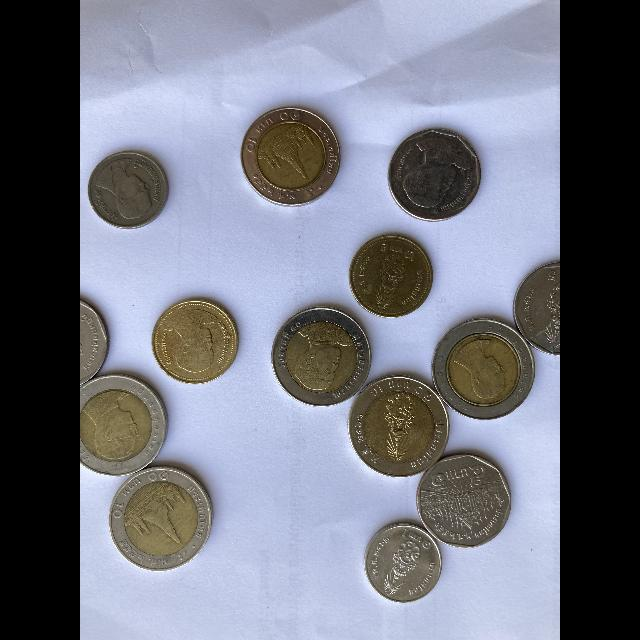1 Bath: (349, 232, 437, 318), (88, 148, 172, 234), (364, 524, 444, 605)
10 Bath: (429, 316, 538, 423), (109, 464, 216, 573), (349, 373, 453, 482), (239, 103, 345, 209), (270, 306, 376, 410), (81, 374, 172, 478)
2 Bath: (150, 296, 240, 389)
5 Bath: (384, 126, 485, 225), (416, 453, 514, 549), (513, 256, 566, 361), (80, 297, 110, 393)
